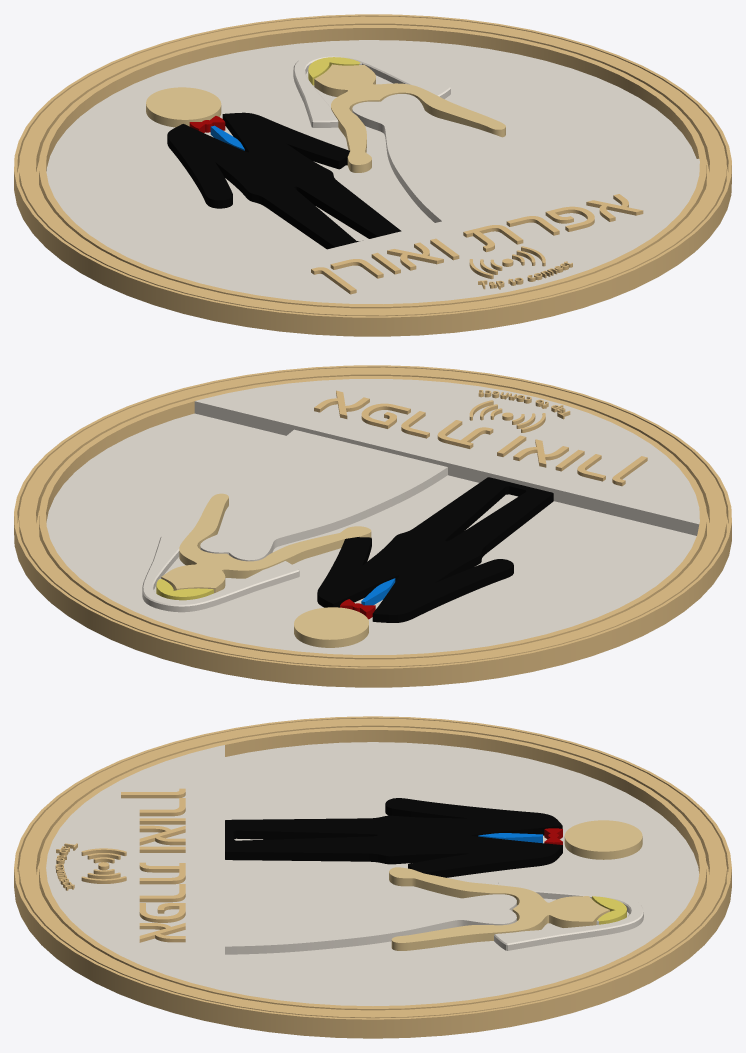
Rendered from tal nfc project (1).glb.
3 views of the same model, one above another, from view 1: azimuth 30°, elevation 25°; view 2: azimuth 150°, elevation 25°; view 3: azimuth 270°, elevation 25° (orthographic).
Visible parts, largest first — view 1: Circle, Circle.003, Plane.001, Text, Plane.002, Circle.001, Plane, Text.001; view 2: Circle, Circle.003, Plane.001, Text, Plane.002, Circle.001, Plane, Text.001; view 3: Circle, Circle.003, Plane.001, Text, Plane.002, Circle.001, Plane.
Boxes of the visible parts, box(x1,y1,x2,y2) form: Circle: box(14, 14, 731, 336); Circle.003: box(46, 40, 696, 281); Plane.001: box(167, 57, 594, 249); Text: box(311, 194, 643, 294); Plane.002: box(293, 51, 450, 127); Circle.001: box(146, 87, 221, 127); Plane: box(469, 246, 545, 279); Text.001: box(478, 261, 572, 289); Circle: box(14, 365, 731, 687); Circle.003: box(46, 413, 696, 654); Plane.001: box(156, 429, 553, 622); Text: box(314, 390, 647, 486); Plane.002: box(142, 536, 299, 612); Circle.001: box(294, 607, 368, 647); Plane: box(469, 400, 545, 432); Text.001: box(478, 390, 570, 419); Circle: box(14, 716, 731, 1038); Circle.003: box(225, 742, 699, 1005); Plane.001: box(225, 798, 626, 954); Text: box(121, 788, 185, 942); Plane.002: box(494, 877, 643, 950); Circle.001: box(564, 820, 642, 859); Plane: box(81, 848, 126, 883).
Bounding box in the file's own units: 2.4 × 0.083 × 2.4.
